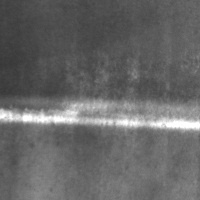scratches: (0, 103, 199, 133)
